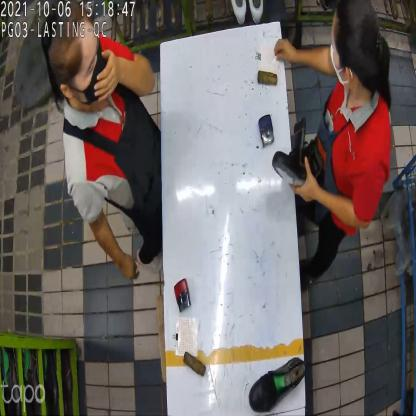shoes: (272, 114, 331, 197), (247, 354, 311, 416)
stamp: (256, 114, 276, 150), (174, 279, 193, 316)
